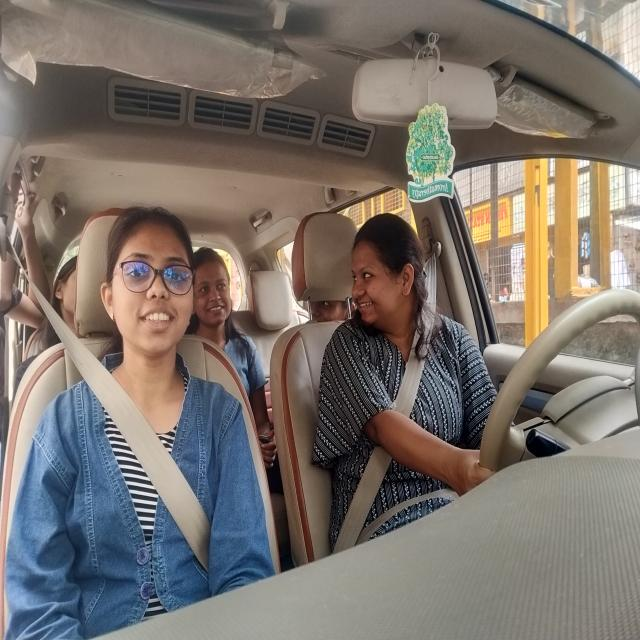LeftRight: (352, 210, 429, 349)
person: (102, 210, 201, 380), (195, 242, 235, 351), (52, 251, 84, 338), (307, 299, 353, 328)
talking: (358, 298, 377, 312)
